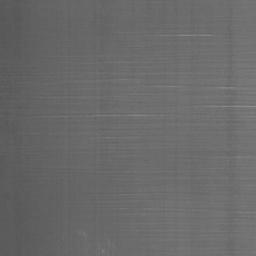Waist folding: (154, 84, 256, 91), (46, 113, 163, 118), (120, 207, 153, 217), (195, 104, 256, 109), (161, 33, 213, 38), (225, 154, 256, 159), (105, 136, 132, 140), (236, 210, 256, 214)
